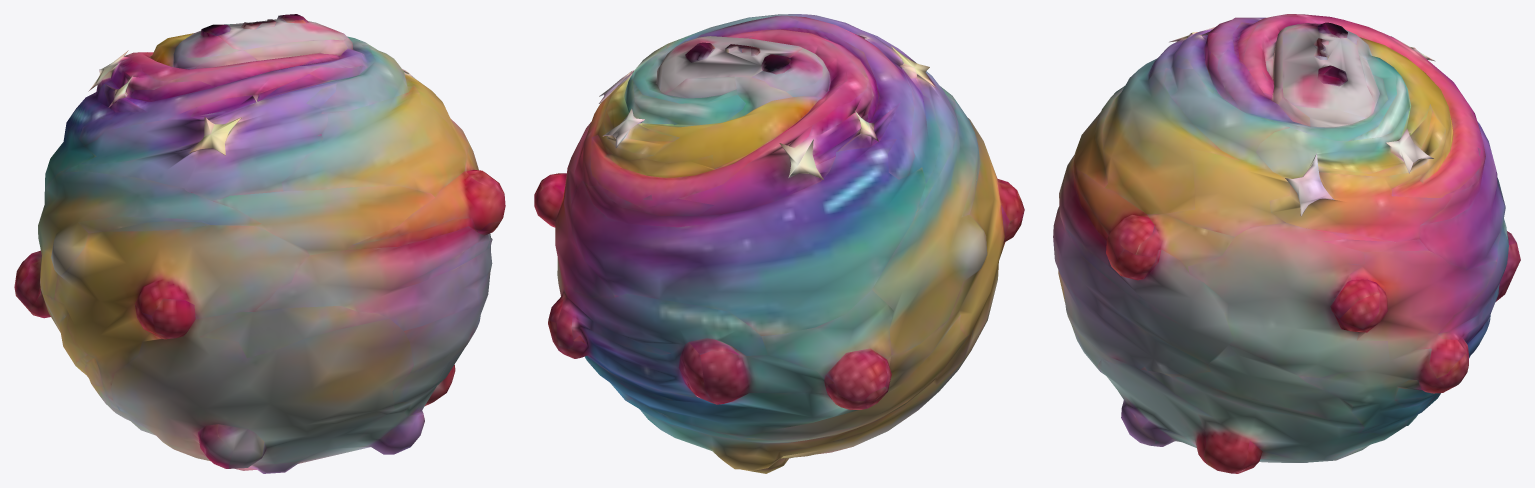
The picture shows the model from 3 angles, left to right: view 1: azimuth 30°, elevation 25°; view 2: azimuth 150°, elevation 25°; view 3: azimuth 270°, elevation 25°; orthographic projection.
Visible parts, largest first — view 1: material; view 2: material; view 3: material.
Part boxes in pixels (x1,y1,x2,y2): material: [14, 14, 505, 473]; material: [534, 14, 1024, 473]; material: [1053, 14, 1520, 473].
Size of the model in its own units: 0.9991 by 0.965 by 1.
1 material, 1 textured.
